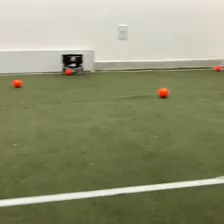ball: (157, 85, 170, 98), (12, 77, 23, 87), (64, 66, 73, 75), (214, 63, 222, 71)
goal: (1, 48, 97, 74)
robot: (61, 52, 85, 76)
